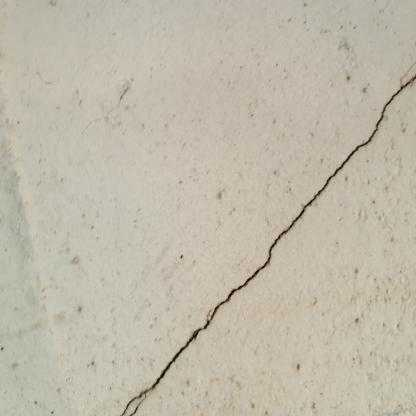crack: (121, 75, 415, 415)
